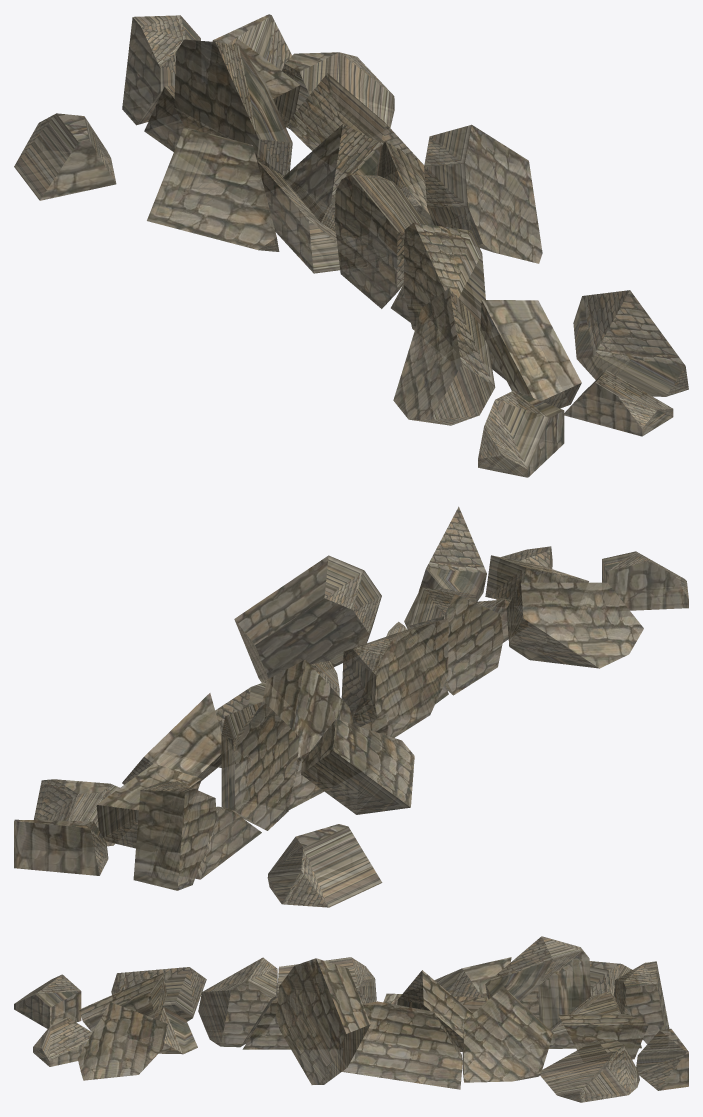
Rendered from BreakWallLarge_000017.obj.
The picture shows the model from 3 angles, top to bottom: view 1: azimuth 30°, elevation 25°; view 2: azimuth 150°, elevation 25°; view 3: azimuth 270°, elevation 25°; orthographic projection. The views are drawn at different scales.
Visible parts, largest first — view 1: Cube.057_cell.018_Cube.057_cell.017, Cube.057_cell.017_Cube.057_cell.016, Cube.057_cell.014_Cube.057_cell.013, Cube.057_cell.021_Cube.057_cell.020, Cube.057_cell.013_Cube.057_cell.012, Cube.057_cell.007_Cube.057_cell.006, Cube.057_cell.011_Cube.057_cell.010, Cube.057_cell.010_Cube.057_cell.009, Cube.057_cell.001_Cube.057_cell.000, Cube.057_cell.015_Cube.057_cell.014, Cube.057_cell.003_Cube.057_cell.002, Cube.057_cell_Cube.057_cell.022 (+8 smaller); view 2: Cube.057_cell.018_Cube.057_cell.017, Cube.057_cell.021_Cube.057_cell.020, Cube.057_cell.013_Cube.057_cell.012, Cube.057_cell.014_Cube.057_cell.013, Cube.057_cell.017_Cube.057_cell.016, Cube.057_cell.003_Cube.057_cell.002, Cube.057_cell.001_Cube.057_cell.000, Cube.057_cell.010_Cube.057_cell.009, Cube.057_cell.019_Cube.057_cell.018, Cube.057_cell_Cube.057_cell.022, Cube.057_cell.020_Cube.057_cell.019, Cube.057_cell.015_Cube.057_cell.014 (+8 smaller); view 3: Cube.057_cell.018_Cube.057_cell.017, Cube.057_cell.004_Cube.057_cell.003, Cube.057_cell.020_Cube.057_cell.019, Cube.057_cell.014_Cube.057_cell.013, Cube.057_cell.007_Cube.057_cell.006, Cube.057_cell.010_Cube.057_cell.009, Cube.057_cell.012_Cube.057_cell.011, Cube.057_cell.003_Cube.057_cell.002, Cube.057_cell.019_Cube.057_cell.018, Cube.057_cell.016_Cube.057_cell.015, Cube.057_cell.021_Cube.057_cell.020, Cube.057_cell_Cube.057_cell.022 (+10 smaller).
Part boxes in pixels (box(x1,y1,x2,y2)): Cube.057_cell.018_Cube.057_cell.017: box(424, 124, 542, 263); Cube.057_cell.017_Cube.057_cell.016: box(147, 127, 279, 251); Cube.057_cell.014_Cube.057_cell.013: box(174, 39, 292, 175); Cube.057_cell.021_Cube.057_cell.020: box(393, 288, 495, 425); Cube.057_cell.013_Cube.057_cell.012: box(334, 174, 428, 308); Cube.057_cell.007_Cube.057_cell.006: box(573, 290, 688, 396); Cube.057_cell.011_Cube.057_cell.010: box(480, 300, 581, 408); Cube.057_cell.010_Cube.057_cell.009: box(404, 222, 485, 330); Cube.057_cell.001_Cube.057_cell.000: box(14, 113, 116, 200); Cube.057_cell.015_Cube.057_cell.014: box(478, 390, 564, 477); Cube.057_cell.003_Cube.057_cell.002: box(122, 15, 200, 125); Cube.057_cell_Cube.057_cell.022: box(283, 124, 382, 231); Cube.057_cell.018_Cube.057_cell.017: box(234, 555, 381, 682); Cube.057_cell.021_Cube.057_cell.020: box(506, 582, 643, 668); Cube.057_cell.013_Cube.057_cell.012: box(341, 618, 448, 737); Cube.057_cell.014_Cube.057_cell.013: box(221, 701, 298, 830); Cube.057_cell.017_Cube.057_cell.016: box(301, 719, 414, 814); Cube.057_cell.003_Cube.057_cell.002: box(133, 781, 216, 890); Cube.057_cell.001_Cube.057_cell.000: box(267, 824, 382, 907); Cube.057_cell.010_Cube.057_cell.009: box(404, 586, 503, 695); Cube.057_cell.019_Cube.057_cell.018: box(14, 819, 108, 875); Cube.057_cell_Cube.057_cell.022: box(262, 659, 353, 758); Cube.057_cell.020_Cube.057_cell.019: box(122, 693, 221, 784); Cube.057_cell.015_Cube.057_cell.014: box(602, 551, 688, 610); Cube.057_cell.018_Cube.057_cell.017: box(276, 958, 370, 1084); Cube.057_cell.004_Cube.057_cell.003: box(342, 1001, 462, 1089); Cube.057_cell.020_Cube.057_cell.019: box(462, 987, 553, 1082); Cube.057_cell.014_Cube.057_cell.013: box(485, 936, 590, 1029); Cube.057_cell.007_Cube.057_cell.006: box(77, 1002, 167, 1080); Cube.057_cell.010_Cube.057_cell.009: box(198, 957, 277, 1047); Cube.057_cell.012_Cube.057_cell.011: box(540, 1038, 639, 1102); Cube.057_cell.003_Cube.057_cell.002: box(614, 961, 669, 1044); Cube.057_cell.019_Cube.057_cell.018: box(636, 1028, 688, 1090); Cube.057_cell.016_Cube.057_cell.015: box(558, 1014, 648, 1059); Cube.057_cell.021_Cube.057_cell.020: box(111, 967, 206, 1021); Cube.057_cell_Cube.057_cell.022: box(397, 970, 472, 1051).
Bounding box in the file's own units: 29.87 × 12.2 × 70.32.
Materials: 2 (2 with a texture image).
